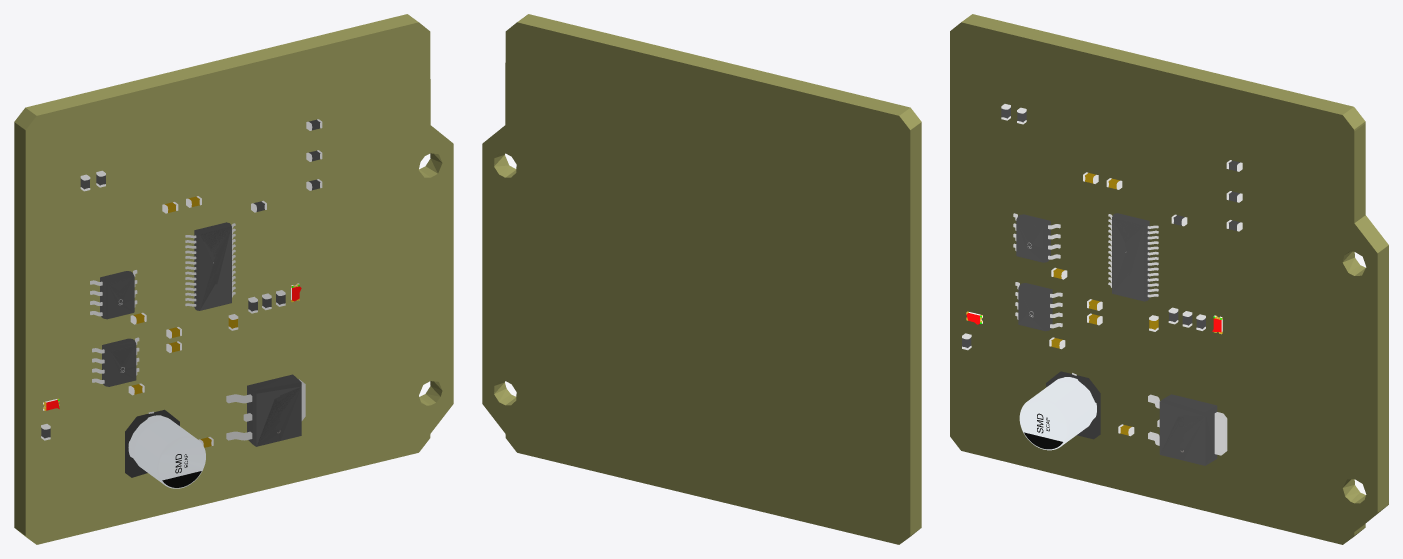
File: OBJ_SimpleFOCShieldV3.PcbDoc.obj
3 renders of one model, left to right at view 1: azimuth 30°, elevation 25°; view 2: azimuth 150°, elevation 25°; view 3: azimuth 330°, elevation 25°, orthographic.
Bounding box in the file's own units: 217 × 208 × 37.56.
